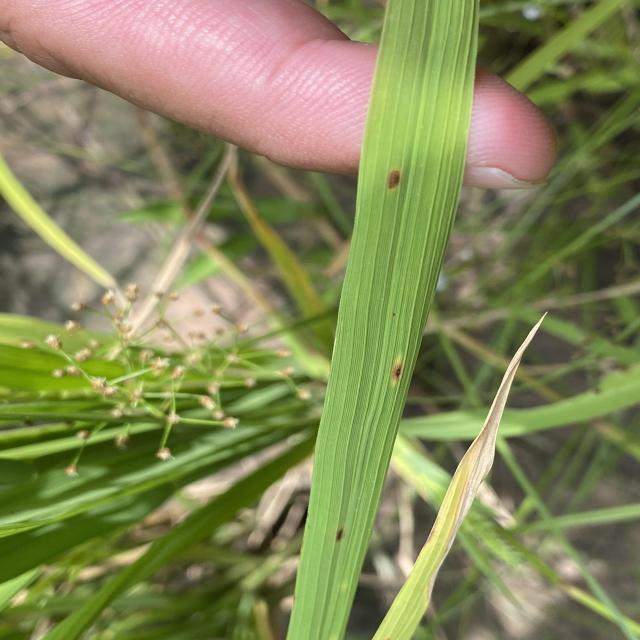Dom nau: (386, 169, 402, 193), (391, 364, 405, 383), (335, 526, 346, 544)
